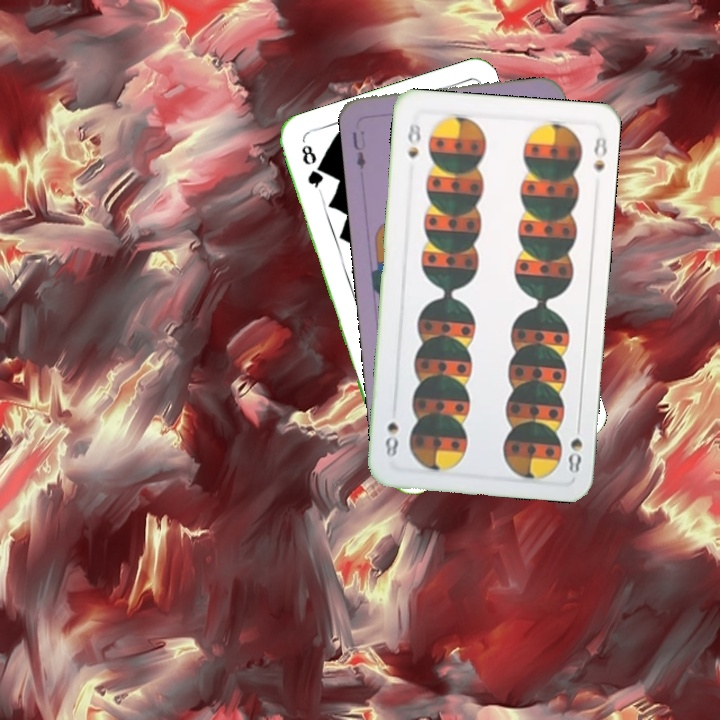EU: (348, 128, 368, 172)
G8: (297, 140, 326, 196)
S8: (564, 417, 585, 476), (403, 119, 424, 161)
